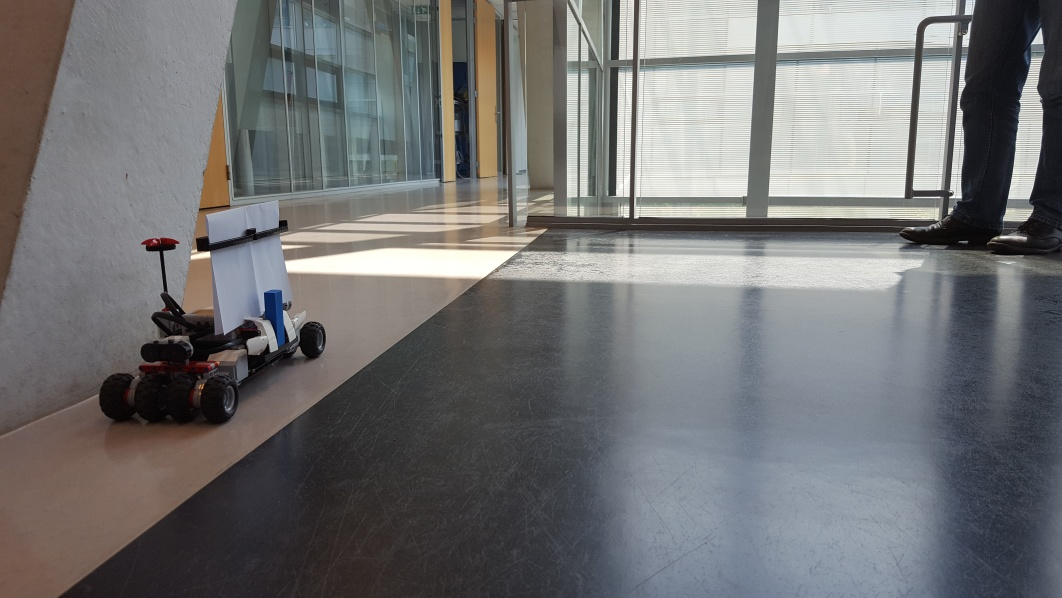car: (98, 201, 329, 424)
